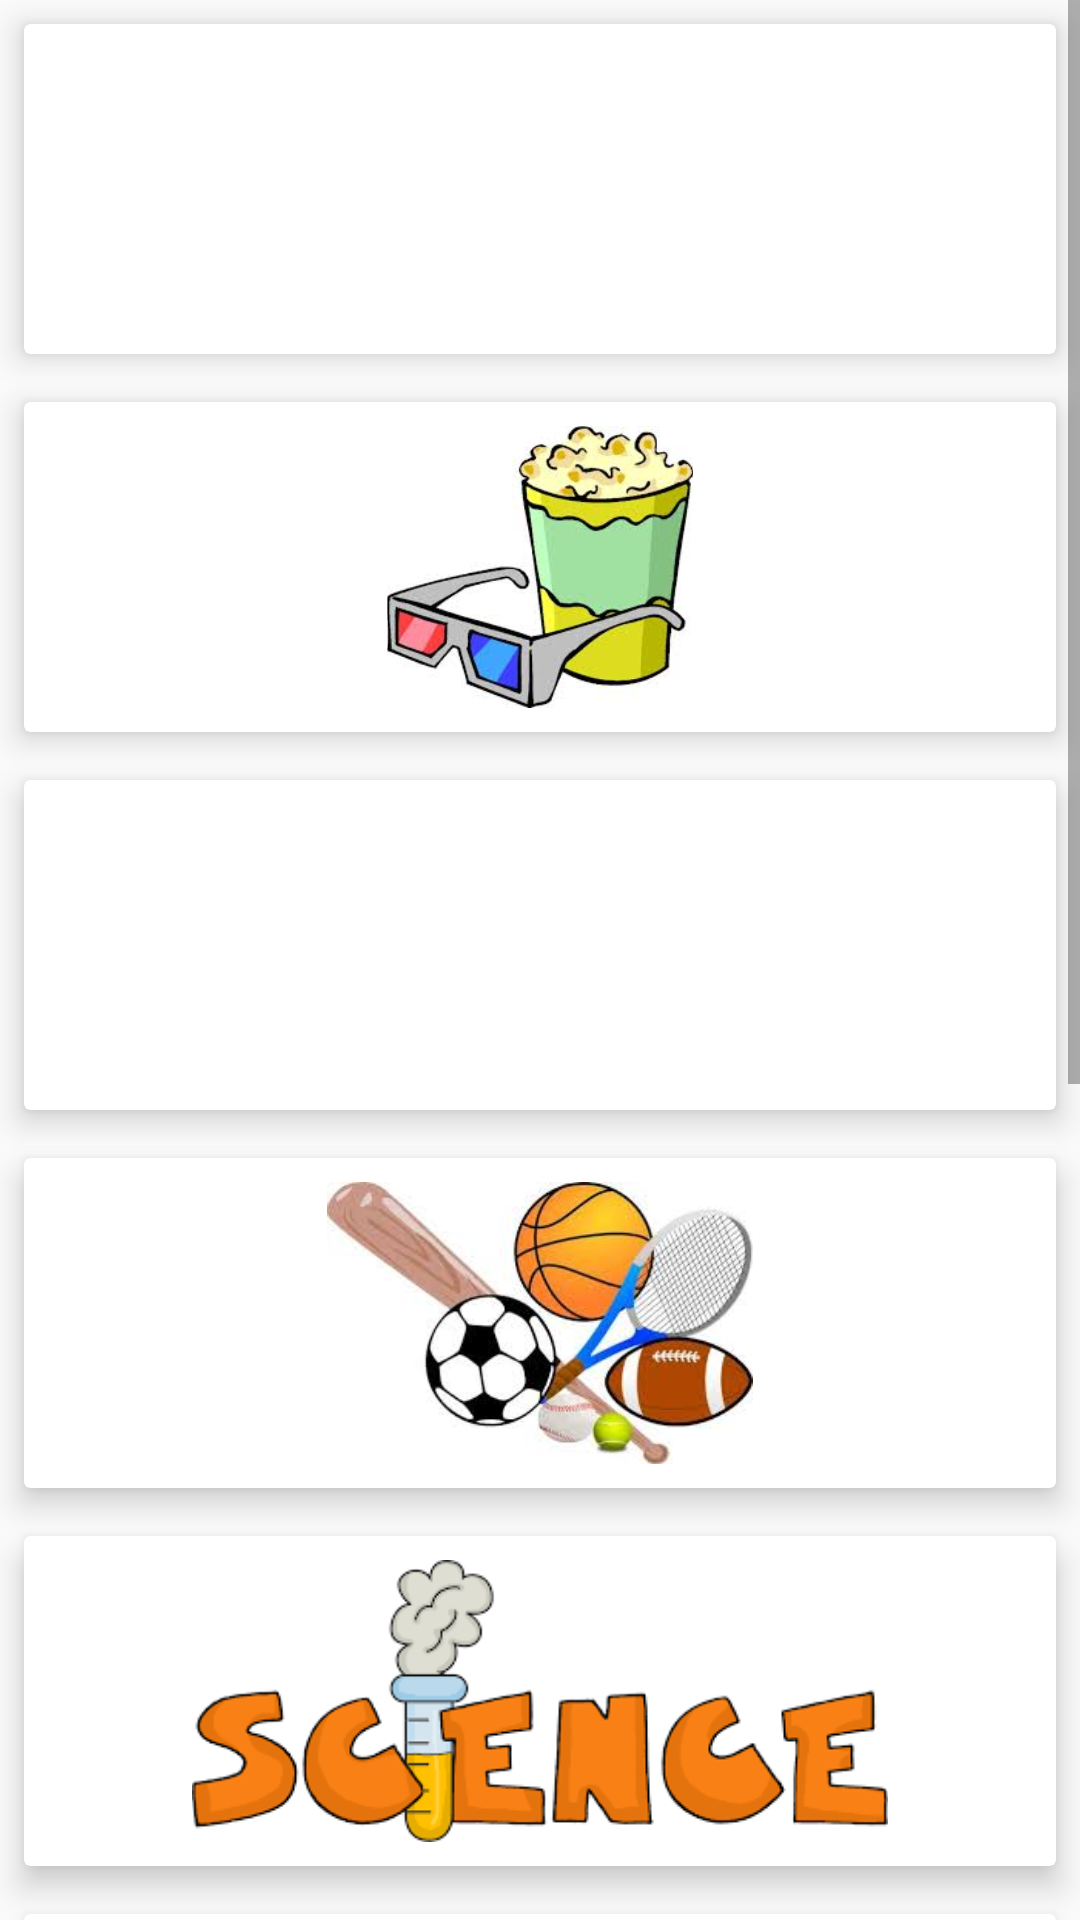

Named icons in this screenshot (1080*1920) and their centers, (x,y):
Entertainment: (540,567)
